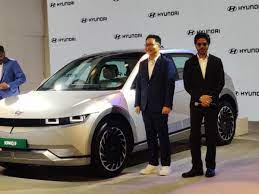Honda Ioniq: (1, 42, 136, 179)
